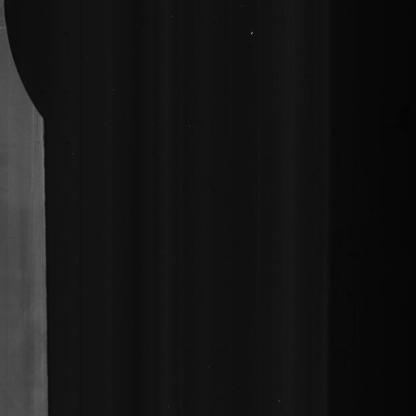crescent_gap: (0, 0, 48, 135)
